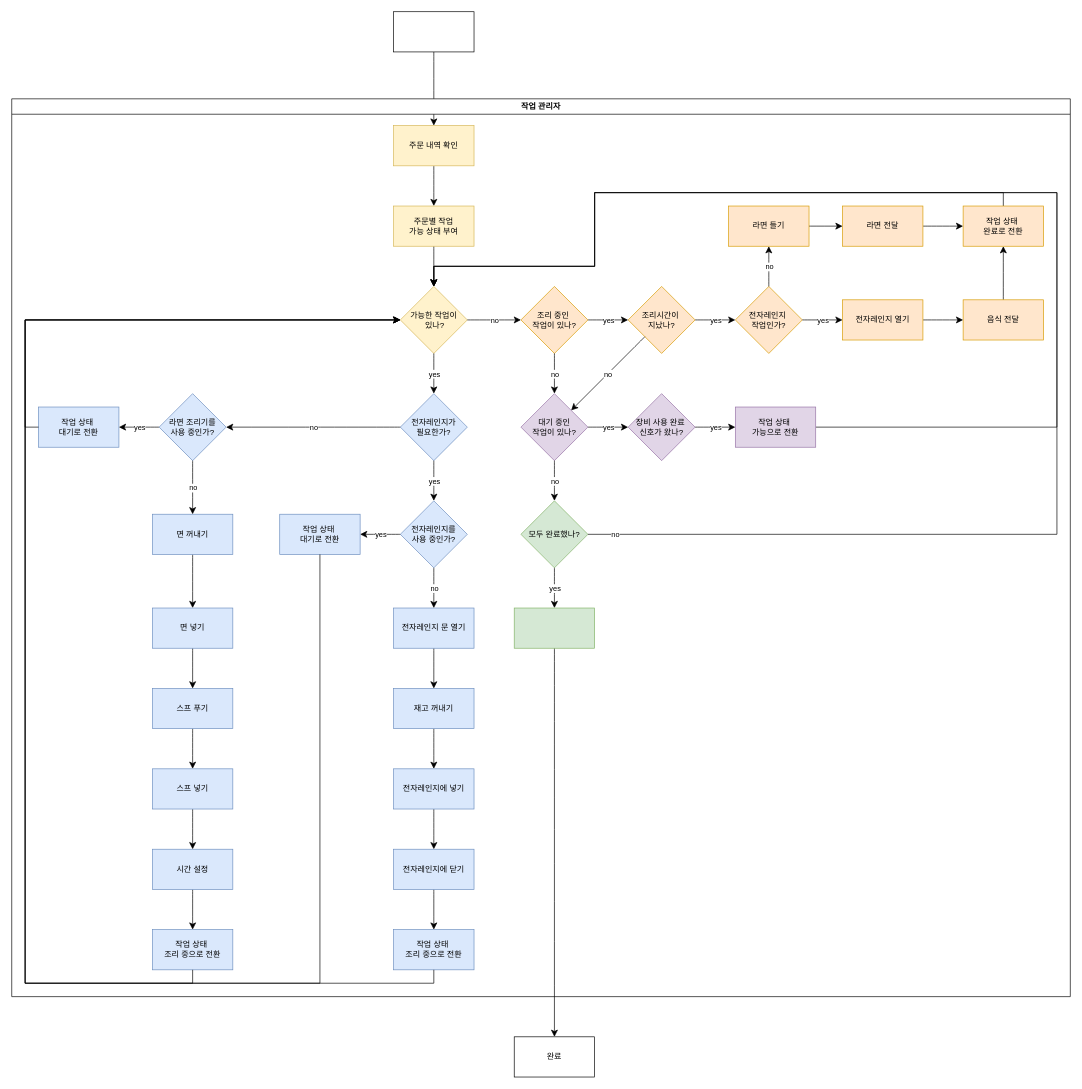
This 1082x1089 diagram has some shape labels left out. Here are the shapes that lost their labels. From the top down, the centre of each, then its label:
the point at 433,31: 주문
the point at 554,627: 초기 위치로 이동
